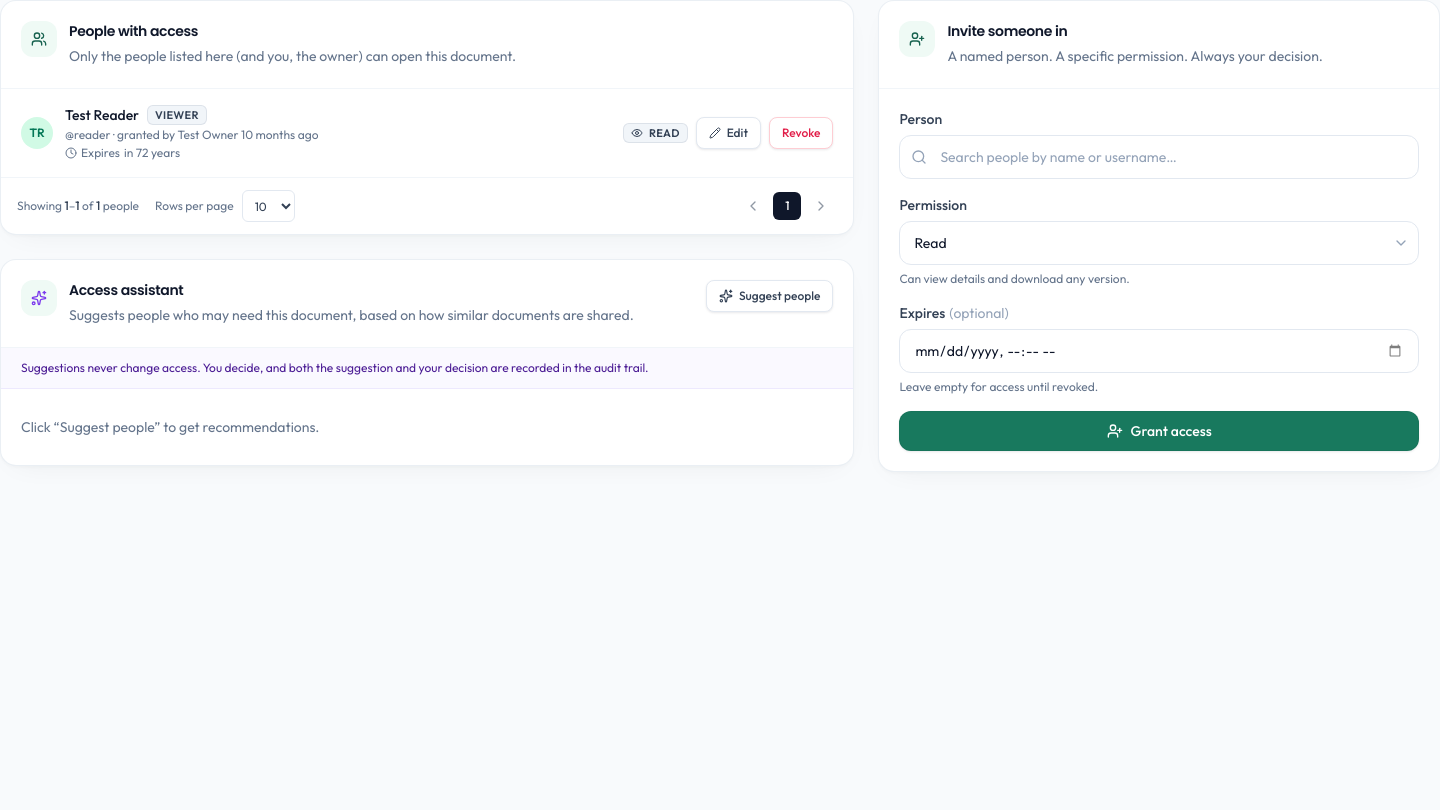
Test case: editing an existing grant › updates the named grant explicitly, preserves unchanged expiry and never generates suggestions automatically
Click the button with aria-label "Edit access for Test Reader": [728, 133] box x1=696 y1=117 x2=761 y2=149
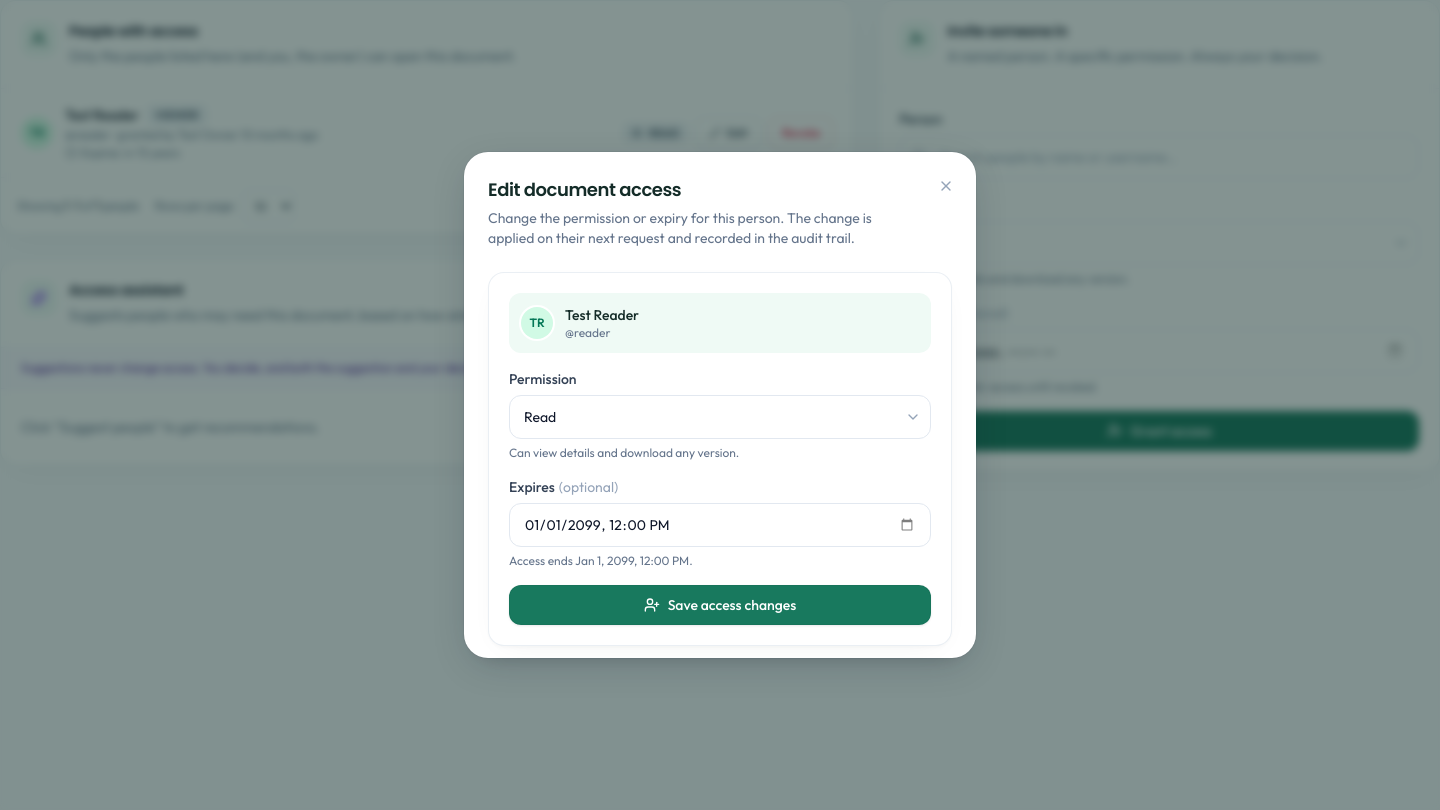
Select "Edit" in the dropdown labelled "Permission": [720, 417] box x1=509 y1=395 x2=931 y2=439
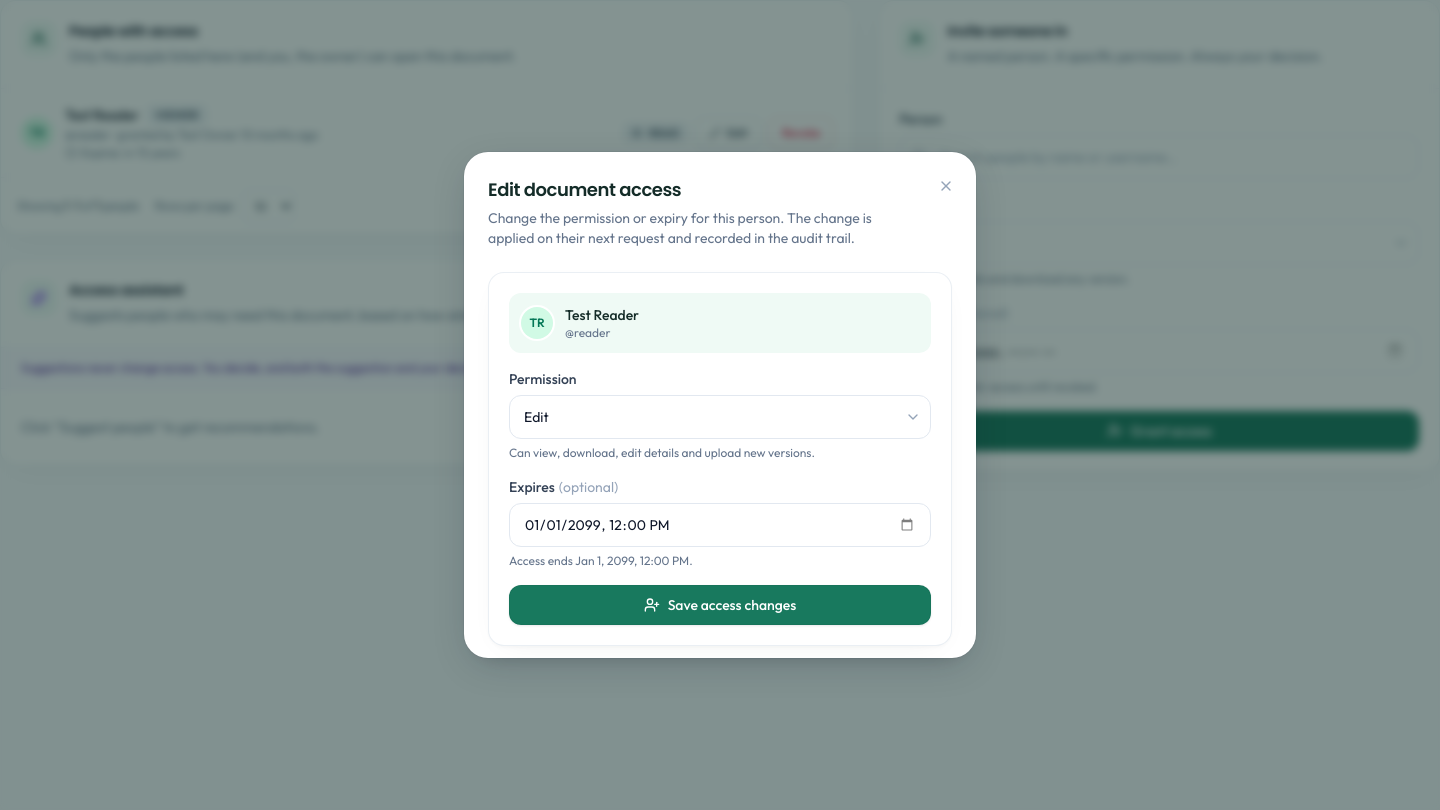
Click the button "Save access changes": [720, 605] box x1=509 y1=585 x2=931 y2=625
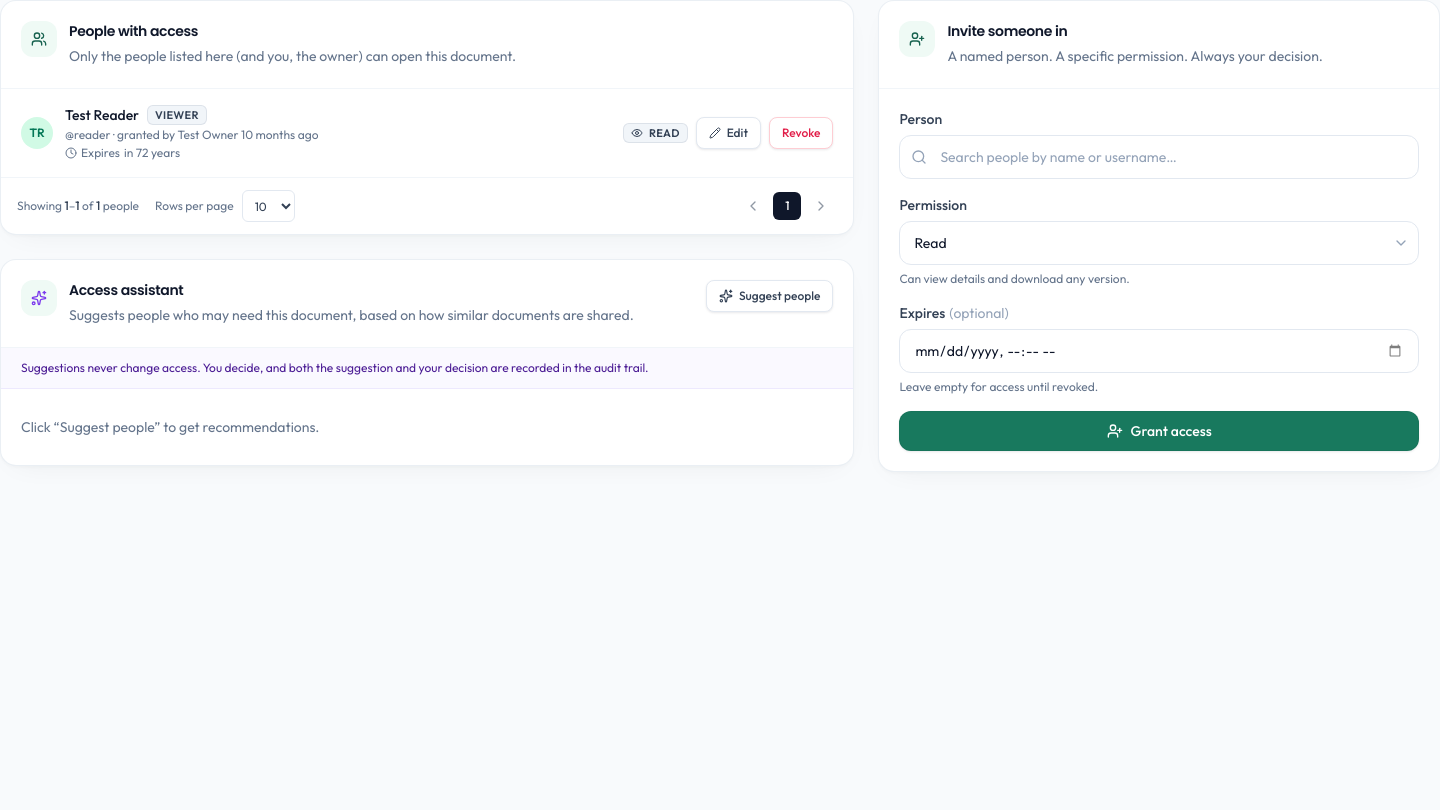
Result: the dialog is gone
